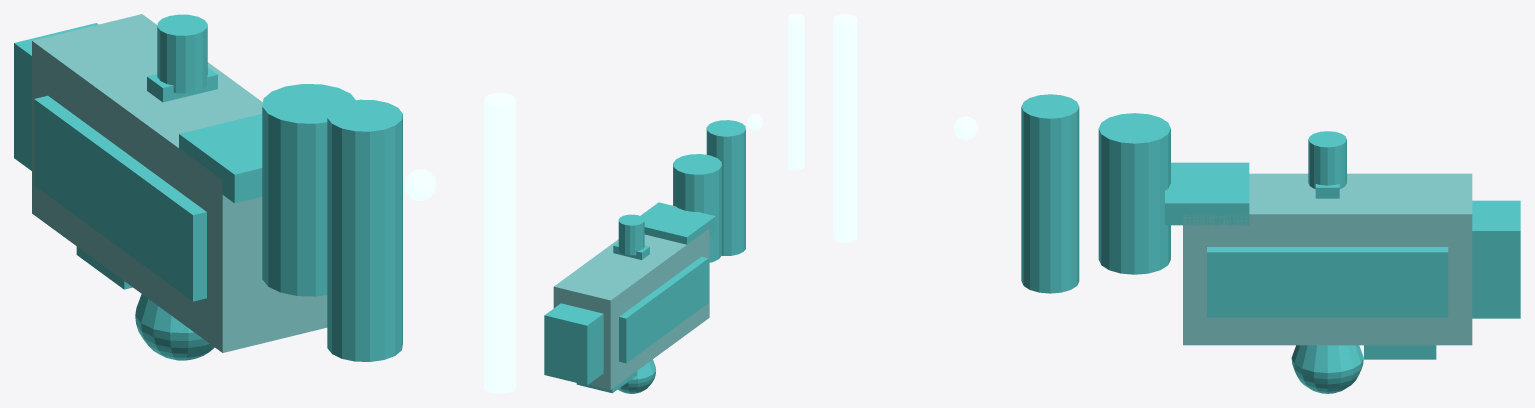
The model's file is high_tech_laser_weapon.glb.
The picture shows the model from 3 angles, left to right: view 1: azimuth 30°, elevation 25°; view 2: azimuth 150°, elevation 25°; view 3: azimuth 270°, elevation 25°; orthographic projection. The views are drawn at different scales.
Parts seen in each view (by area): view 1: main_body, barrel_extension, side_rail_left, barrel, laser_beam, scope, cooling_fins_left, handgrip, shoulder_stock, cooling_fins, scope_mount, laser_emitter (+1 smaller); view 2: main_body, side_rail_left, shoulder_stock, barrel_extension, barrel, laser_beam, cooling_fins, scope, cooling_fins_left, handgrip, scope_mount, battery_pack; view 3: main_body, side_rail, barrel_extension, barrel, shoulder_stock, laser_beam, handgrip, cooling_fins, cooling_fins_right, scope, battery_pack, cooling_fins_left.
Boxes of the visible parts, x1,y1,x2,y2 form: main_body: (32, 14, 327, 352); barrel_extension: (327, 99, 402, 361); side_rail_left: (34, 95, 206, 301); barrel: (262, 84, 355, 296); laser_beam: (484, 92, 515, 393); scope: (157, 14, 207, 93); cooling_fins_left: (179, 127, 261, 203); handgrip: (135, 294, 214, 360); shoulder_stock: (14, 23, 98, 170); cooling_fins: (207, 114, 262, 201); scope_mount: (147, 67, 217, 102); laser_emitter: (405, 169, 436, 200); main_body: (553, 228, 709, 389); side_rail_left: (619, 256, 708, 363); shoulder_stock: (544, 303, 603, 385); barrel_extension: (706, 120, 745, 255); barrel: (673, 154, 721, 262); laser_beam: (788, 14, 804, 169); cooling_fins: (643, 203, 710, 243); scope: (618, 214, 644, 255); cooling_fins_left: (672, 213, 715, 244); handgrip: (618, 359, 655, 393); scope_mount: (613, 242, 649, 259); battery_pack: (576, 371, 637, 393); main_body: (1183, 173, 1472, 345); side_rail: (1207, 247, 1448, 317); barrel_extension: (1021, 94, 1079, 293); barrel: (1098, 113, 1170, 274); shoulder_stock: (1472, 200, 1520, 318); laser_beam: (833, 14, 857, 242); handgrip: (1291, 345, 1363, 393); cooling_fins: (1165, 172, 1249, 200); cooling_fins_right: (1165, 193, 1249, 225); scope: (1308, 131, 1346, 188); battery_pack: (1364, 345, 1436, 359); cooling_fins_left: (1171, 162, 1249, 172).
Bounding box in the file's own units: 0.5 × 1.7 × 2.85.
